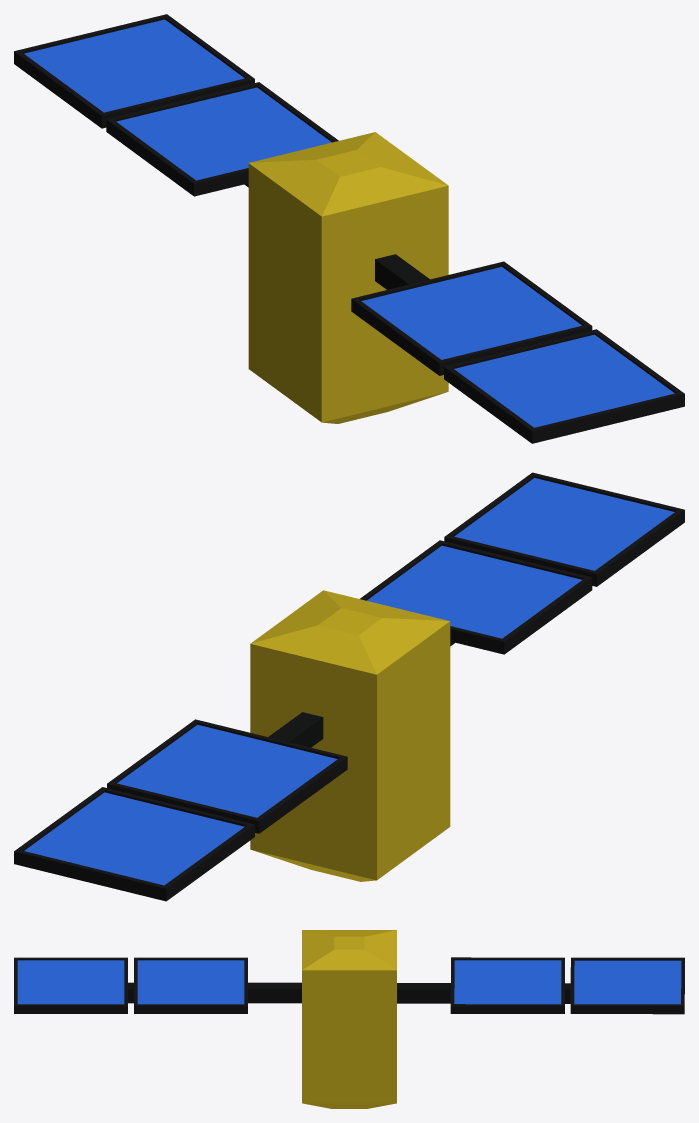
Rendered from satellite.glb.
3 views of the same model, one above another, from view 1: azimuth 30°, elevation 25°; view 2: azimuth 150°, elevation 25°; view 3: azimuth 270°, elevation 25° (orthographic). The views are drawn at different scales.
Parts seen in each view (by area): view 1: Cube, Cube.001, Cube.002; view 2: Cube, Cube.002, Cube.001; view 3: Cube, Cube.002, Cube.001.
Boxes of the visible parts, x1=… form: Cube: x1=248, y1=132, x2=448, y2=423; Cube.001: x1=351, y1=254, x2=684, y2=443; Cube.002: x1=14, y1=14, x2=338, y2=196; Cube: x1=250, y1=590, x2=450, y2=881; Cube.002: x1=14, y1=712, x2=347, y2=901; Cube.001: x1=360, y1=472, x2=684, y2=654; Cube: x1=302, y1=930, x2=396, y2=1108; Cube.002: x1=397, y1=957, x2=684, y2=1014; Cube.001: x1=14, y1=957, x2=301, y2=1013.
Size of the model in its own units: 1.6 by 2.43 by 9.37.
